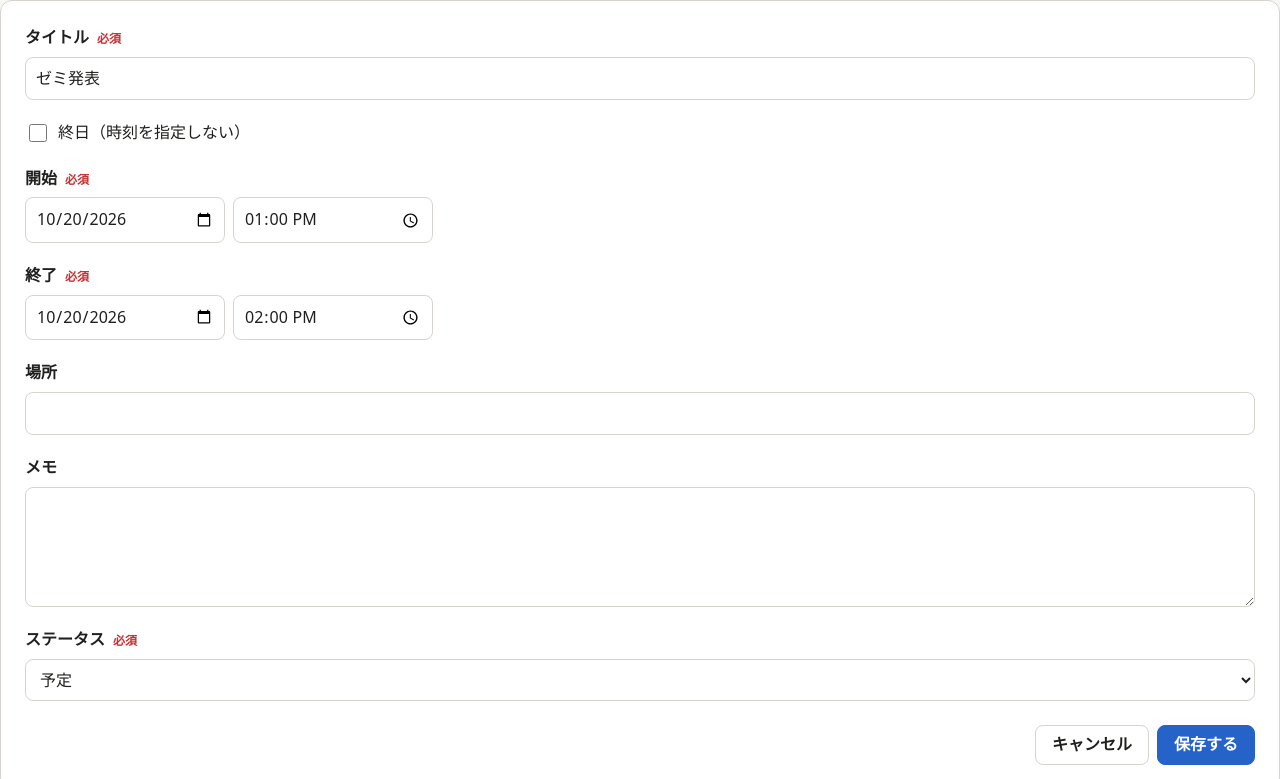
Scenario: EventForm：ステータスの提案 › 編集時は、日時を変えて提案と違えばボタンで提案値にできる
Expected: the button "提案：" is not shown
# 終了を 13:20 にすると、もう終わっている → 完了を提案
Replace the text in the time field named "終了時刻" with "13:20". click: point(333, 317)
box: 233,295 -> 433,340
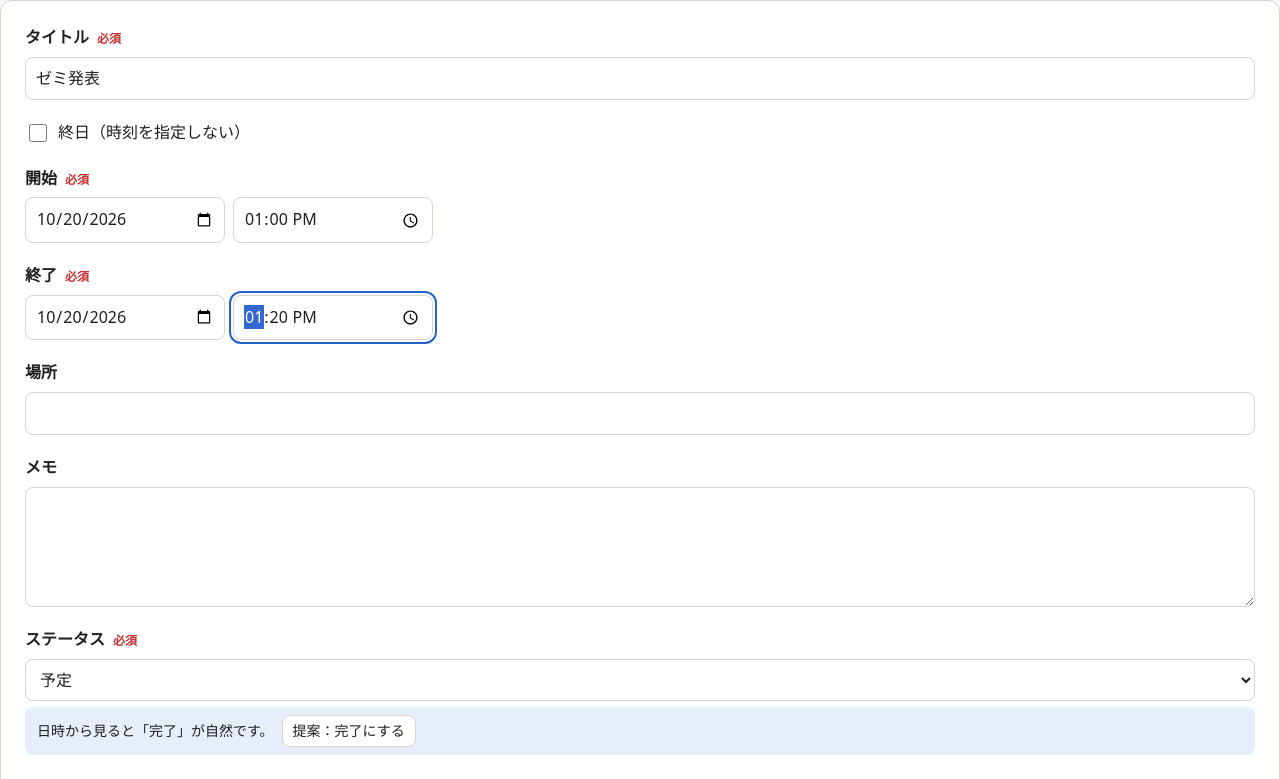
Click the button "提案：完了にする". click: point(349, 731)
box: 282,715 -> 416,747
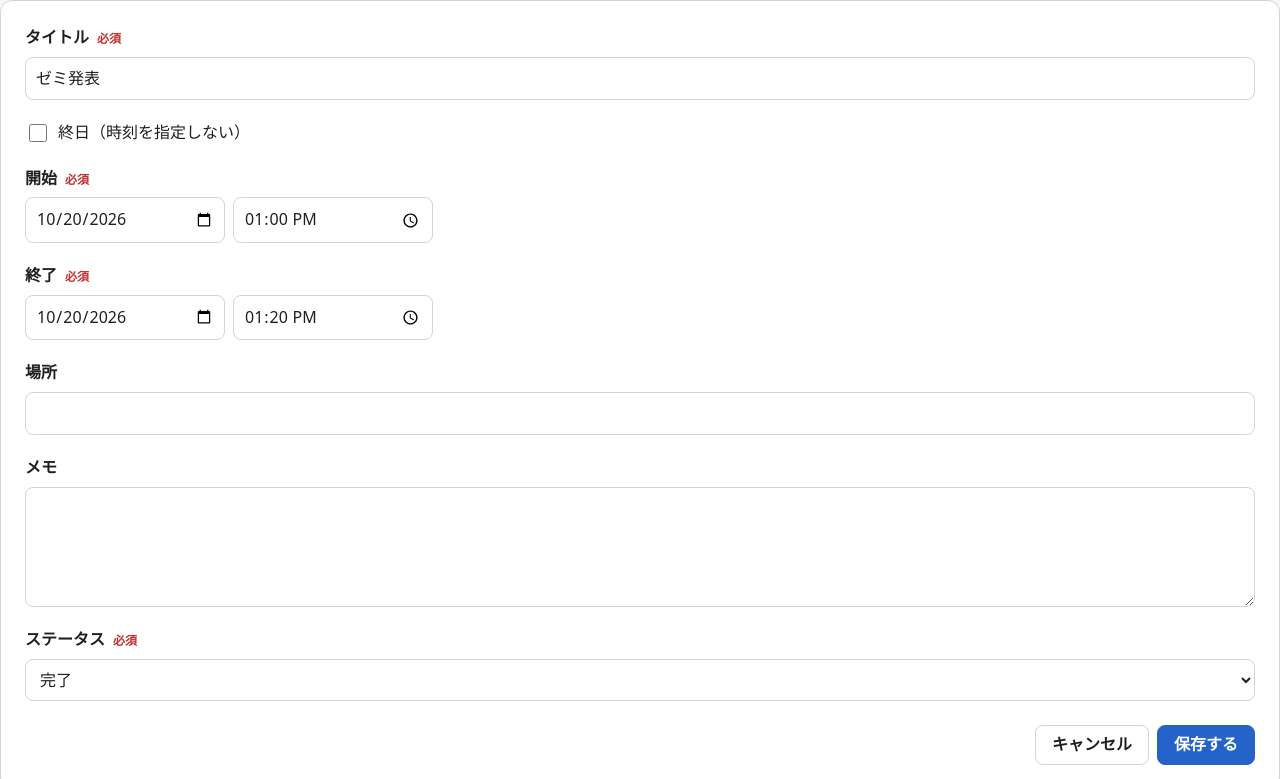
Expected: the dropdown labelled "ステータス" shows "完了", 25,659 -> 1255,701
Expected: the button "提案：" is gone
